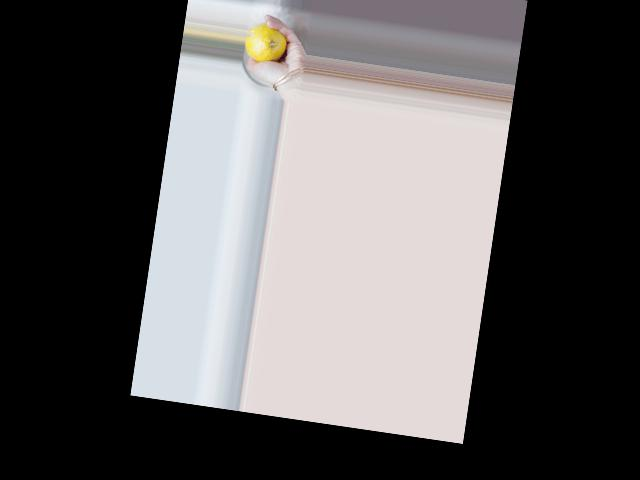lemon: (244, 21, 289, 63)
